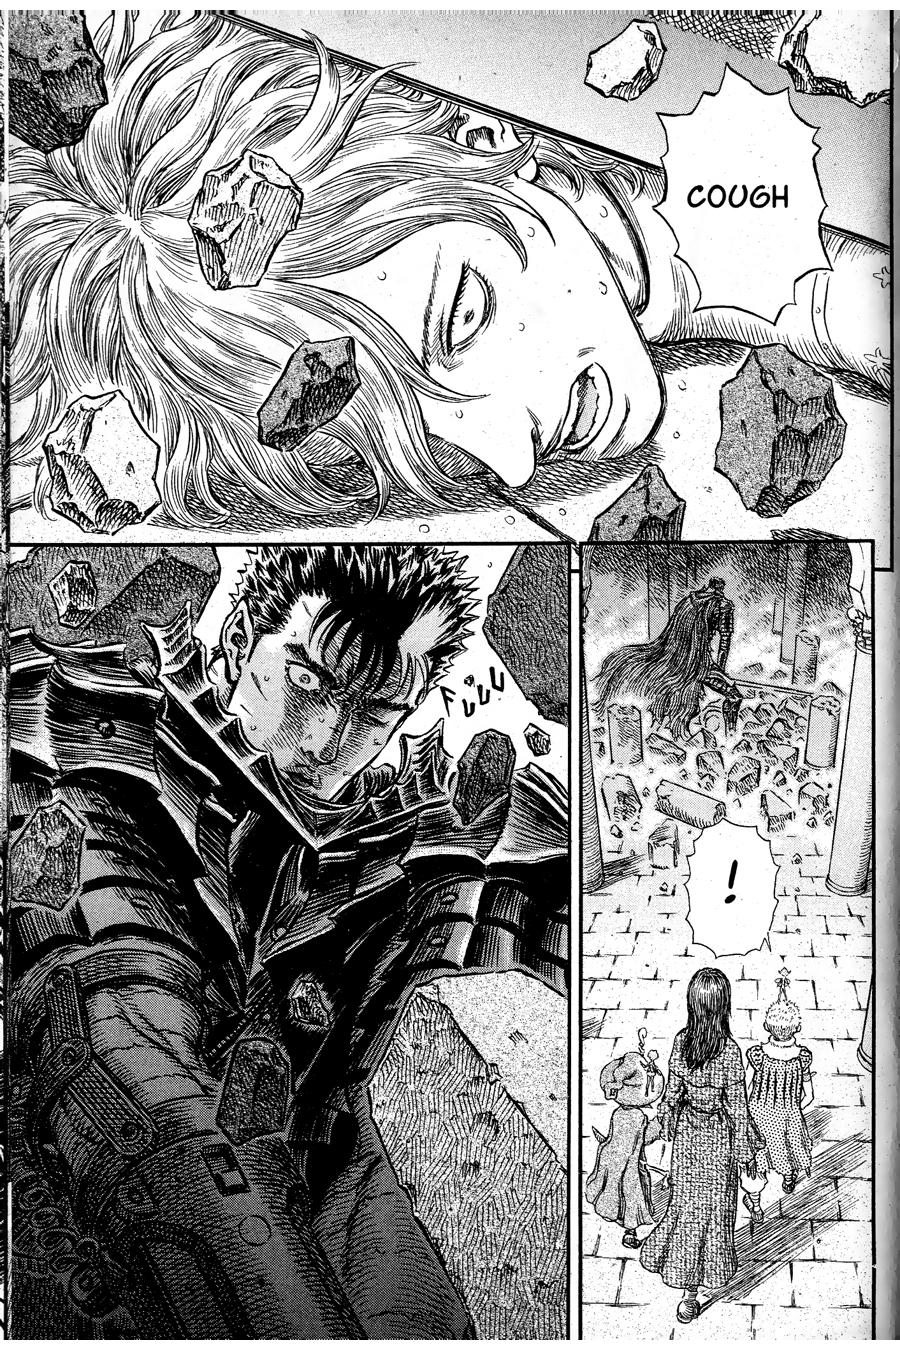Baloon: (653, 62, 836, 328), (679, 823, 788, 960)
Vignetta: (4, 7, 899, 539), (2, 548, 569, 1340), (583, 542, 879, 1350)
